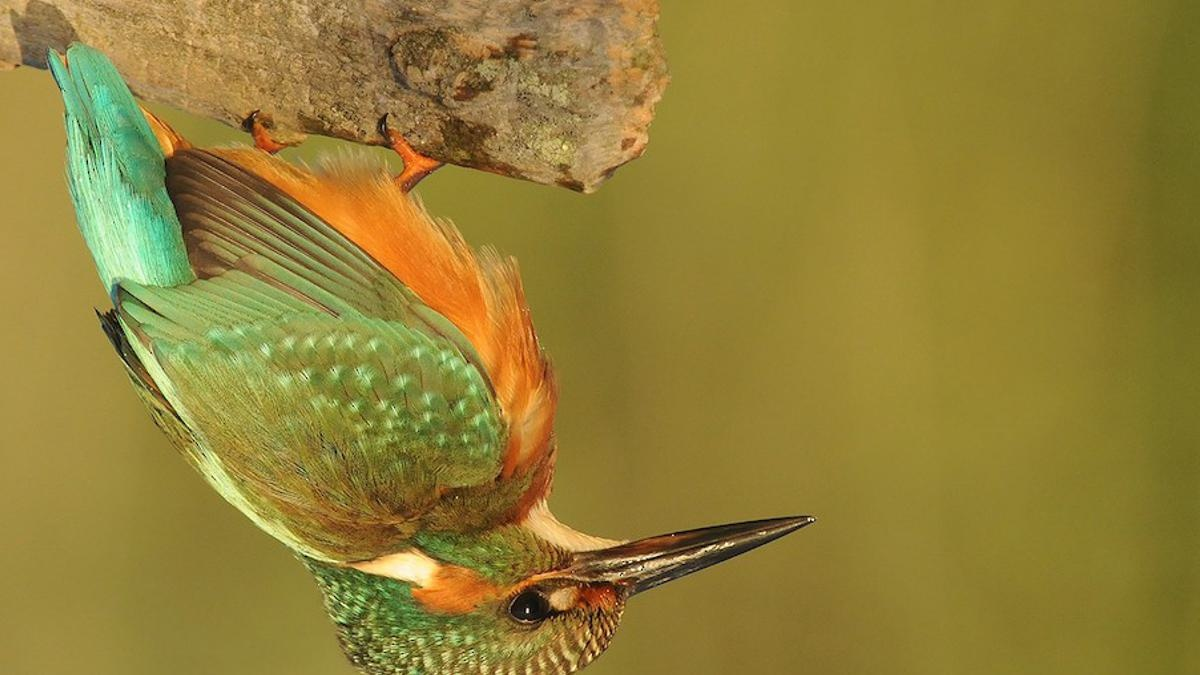kingfisher: (100, 69, 812, 675)
